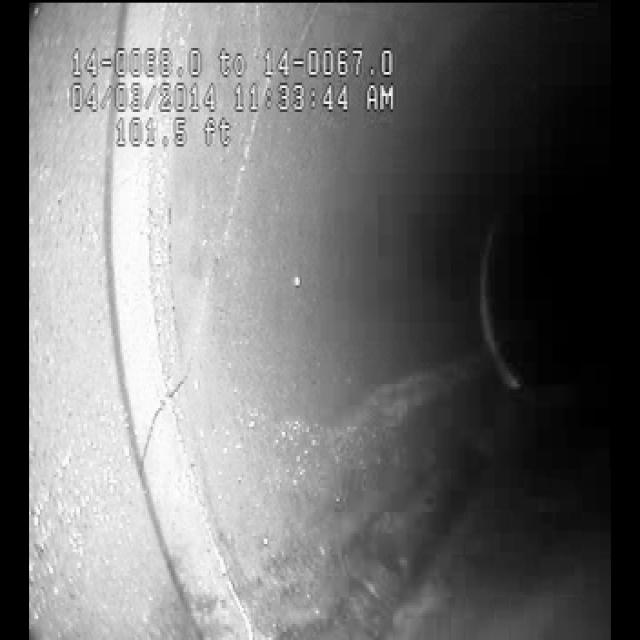Crack: (142, 160, 246, 482)
